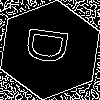D: (25, 25, 79, 67)
